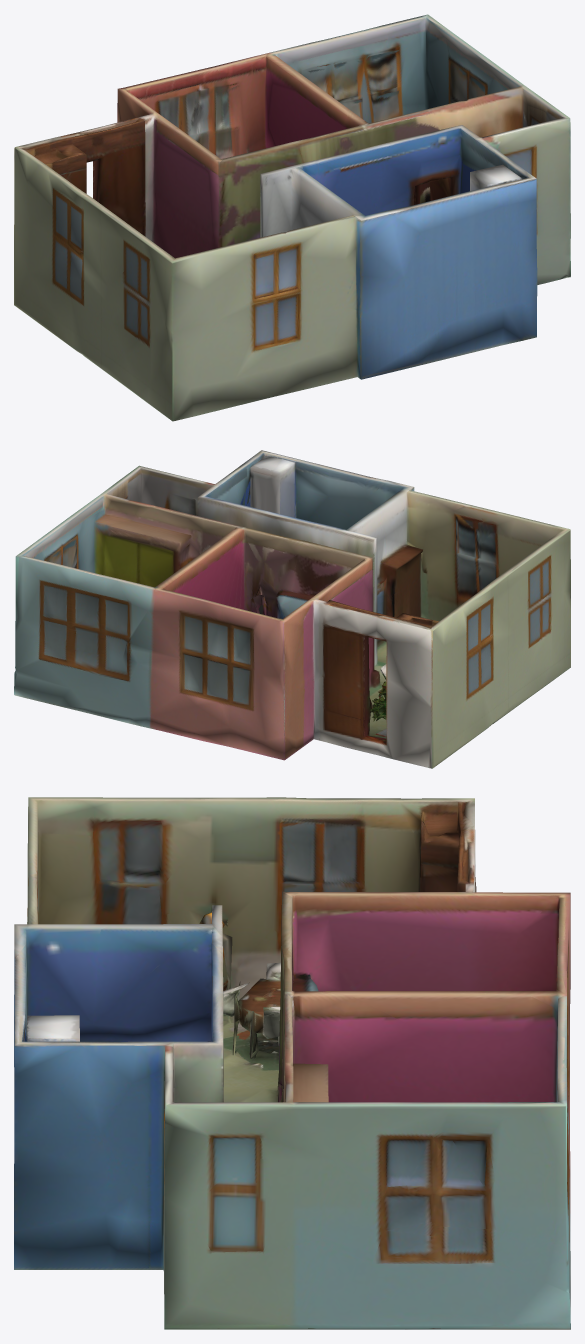
3 renders of one model, top to bottom at view 1: azimuth 30°, elevation 25°; view 2: azimuth 150°, elevation 25°; view 3: azimuth 270°, elevation 25°, orthographic. The views are drawn at different scales.
Visible parts, largest first — view 1: Mesh_0; view 2: Mesh_0; view 3: Mesh_0.
Boxes of the visible parts, x1,y1,x2,y2 form: Mesh_0: [14, 14, 570, 421]; Mesh_0: [14, 450, 570, 768]; Mesh_0: [14, 797, 570, 1329].
Size of the model in its own units: 29.36 by 10 by 22.41.
1 material, 1 textured.
